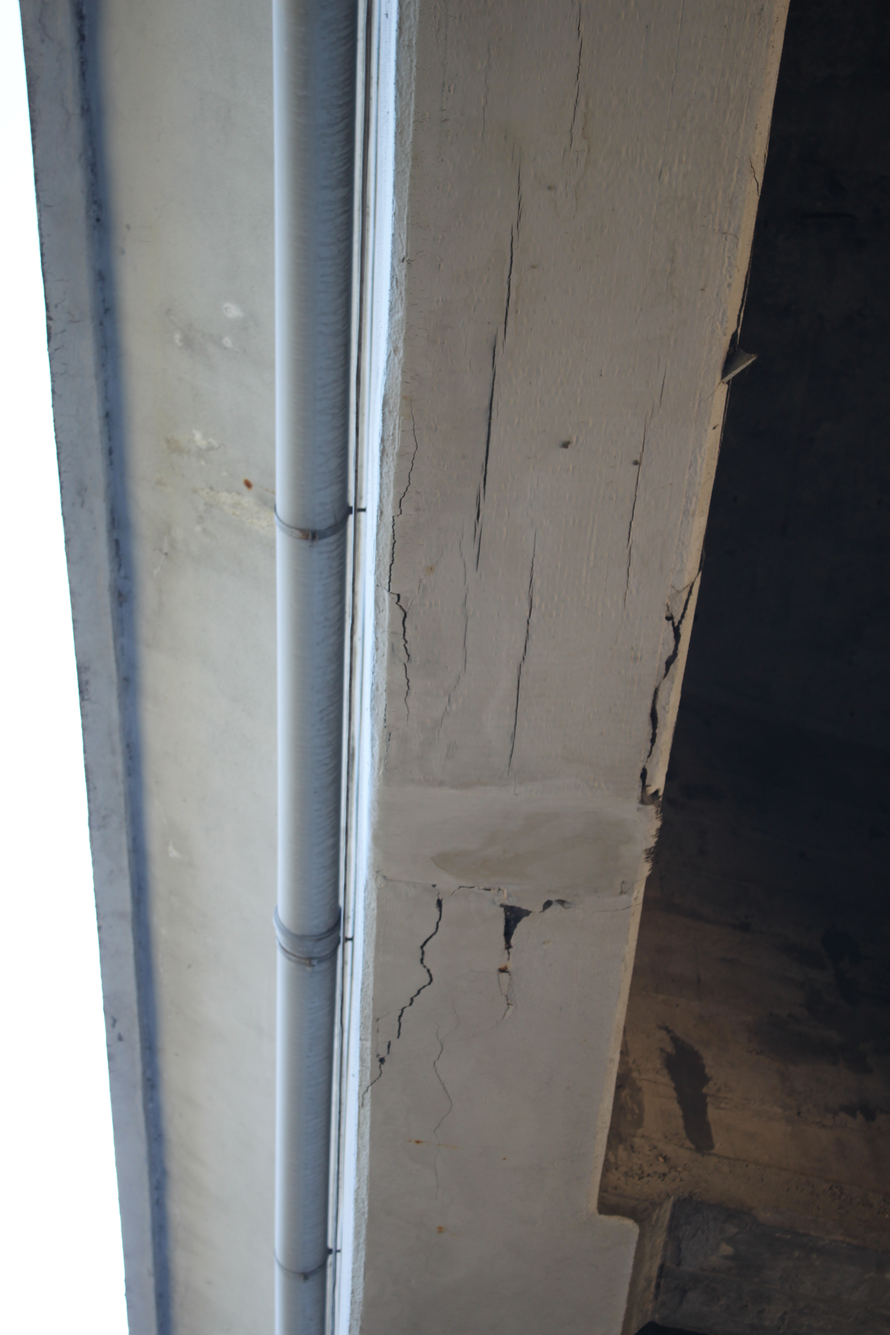Crack: (337, 16, 805, 1162)
